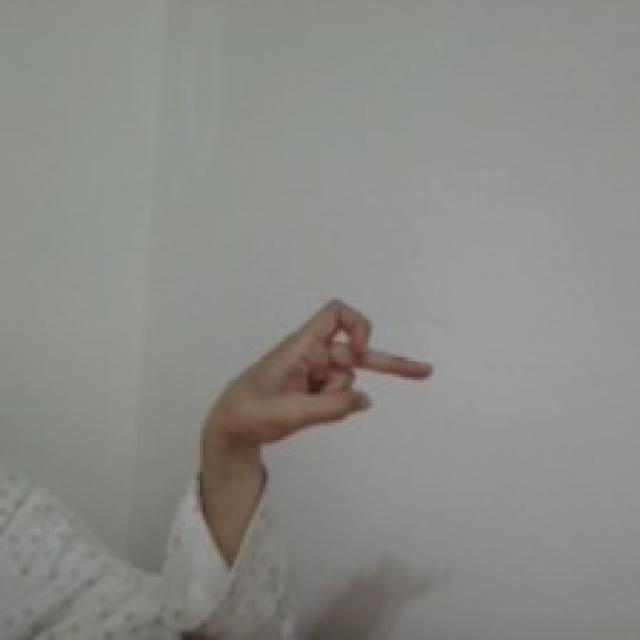sunday: (212, 290, 440, 453)
